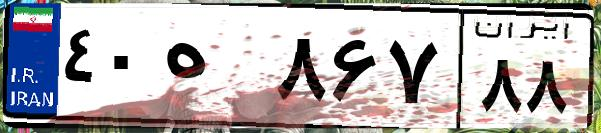0: (110, 28, 158, 98)
4: (57, 26, 110, 100)
6: (330, 28, 385, 110)
7: (385, 28, 445, 110)
8: (270, 28, 330, 110), (475, 38, 525, 113), (525, 38, 570, 115)
ه: (158, 20, 270, 120)
